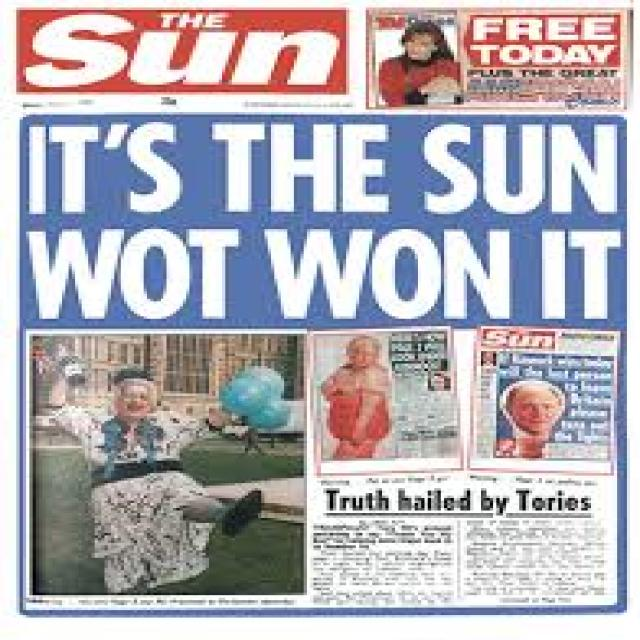paper: (11, 4, 627, 606)
